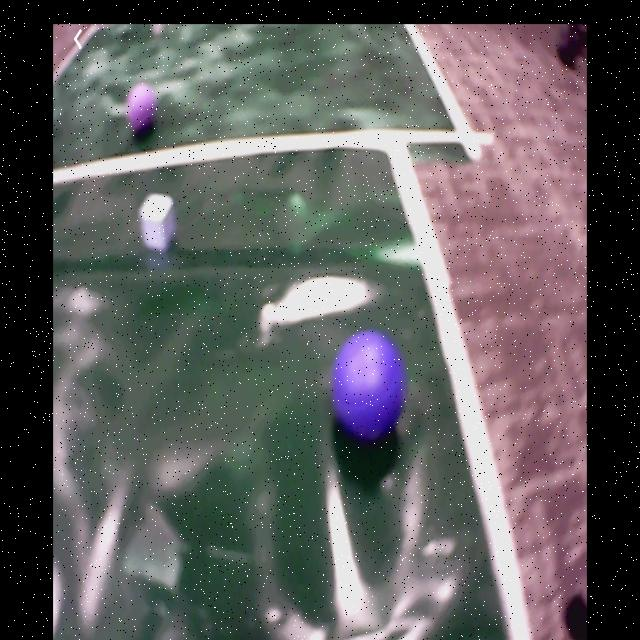ball: (336, 333, 410, 441), (128, 85, 161, 138)
